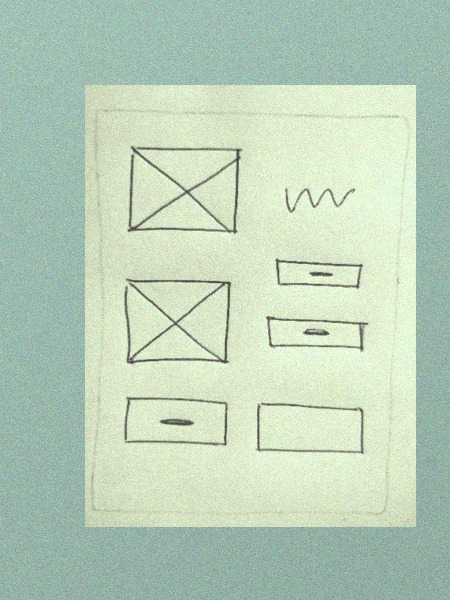button: (115, 392, 238, 454), (264, 312, 376, 358), (271, 252, 367, 296)
image: (120, 140, 246, 244), (115, 273, 235, 370)
text: (277, 178, 362, 226)
text_input: (252, 394, 370, 462)
